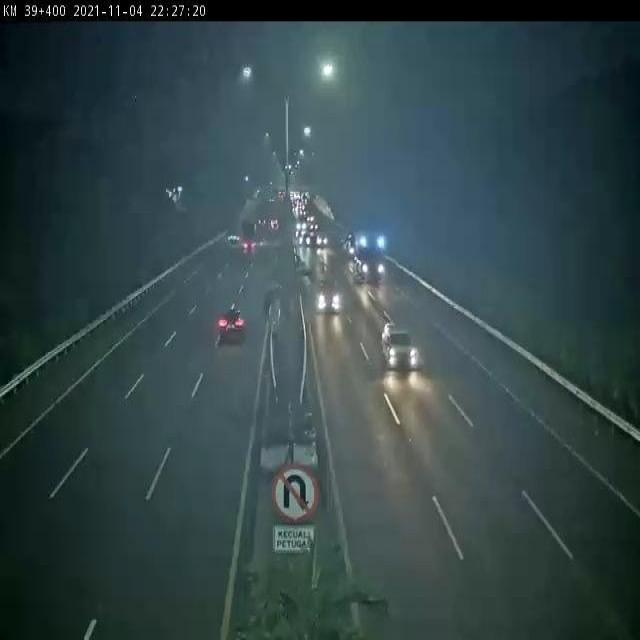car: (380, 318, 419, 366), (219, 308, 243, 343), (317, 279, 339, 309)
truck-m-: (353, 230, 387, 282)
